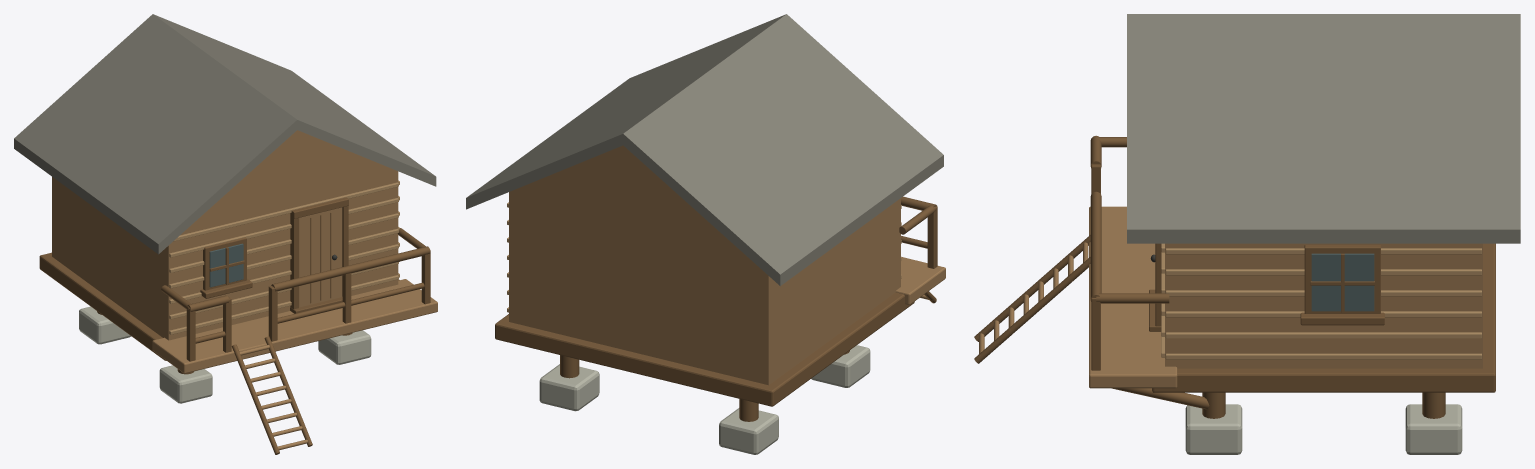
Rendered from small_alpine_granary.glb.
3 renders of one model, left to right at view 1: azimuth 30°, elevation 25°; view 2: azimuth 150°, elevation 25°; view 3: azimuth 270°, elevation 25°, orthographic. The views are drawn at different scales.
Visible parts, largest first — view 1: Granary deep overhanging roof, Granary closed upper timber house, Granary front balcony floor, Granary upper balcony entry closed door slab, Granary heavy raised floor platform, Granary individual stone foundation, Granary balcony upper handrail.001, Granary individual stone foundation.002, Granary individual stone foundation.001, Granary front tiny window dark glazing, Granary front plank course.006, Granary balcony lower rail.001 (+18 smaller); view 2: Granary deep overhanging roof, Granary closed upper timber house, Granary heavy raised floor platform, Granary individual stone foundation.003, Granary individual stone foundation.001, Granary individual stone foundation, Granary front balcony floor, Granary front balcony post; view 3: Granary deep overhanging roof, Granary closed upper timber house, Granary heavy raised floor platform, Granary front balcony floor, Granary side small window glazing, Granary individual stone foundation.003, Granary individual stone foundation.002, Granary side plank course, Granary side plank course.001, Granary side small window surround, Granary side plank course.004, Granary side plank course.005 (+11 smaller).
Part boxes in pixels (x1,y1,x2,y2): Granary deep overhanging roof: (14, 14, 436, 254); Granary closed upper timber house: (52, 130, 398, 340); Granary front balcony floor: (152, 279, 437, 373); Granary upper balcony entry closed door slab: (299, 207, 342, 307); Granary heavy raised floor platform: (39, 252, 399, 360); Granary individual stone foundation: (159, 365, 212, 403); Granary balcony upper handrail.001: (271, 246, 430, 291); Granary individual stone foundation.002: (318, 330, 371, 364); Granary individual stone foundation.001: (79, 306, 131, 344); Granary front tiny window dark glazing: (209, 243, 243, 287); Granary front plank course.006: (173, 182, 398, 241); Granary balcony lower rail.001: (277, 282, 424, 323); Granary deep overhanging roof: (466, 14, 943, 286); Granary closed upper timber house: (509, 145, 900, 385); Granary heavy raised floor platform: (495, 292, 914, 406); Granary individual stone foundation.003: (539, 364, 599, 411); Granary individual stone foundation.001: (719, 408, 778, 454); Granary individual stone foundation: (811, 345, 870, 387); Granary front balcony floor: (896, 256, 945, 304); Granary front balcony post: (927, 206, 937, 268); Granary deep overhanging roof: (1127, 14, 1520, 243); Granary closed upper timber house: (1165, 243, 1482, 368); Granary heavy raised floor platform: (1152, 243, 1495, 392); Granary front balcony floor: (1089, 206, 1177, 388); Granary side small window glazing: (1311, 253, 1374, 311); Granary individual stone foundation.003: (1405, 404, 1462, 454); Granary individual stone foundation.002: (1185, 404, 1242, 454); Granary side plank course: (1165, 353, 1481, 359); Granary side plank course.001: (1165, 332, 1481, 338); Granary side small window surround: (1304, 245, 1380, 313); Granary side plank course.004: (1165, 269, 1481, 275); Granary side plank course.005: (1165, 248, 1481, 254).
Bounding box in the file's own units: 5.08 × 4.86 × 6.36.
